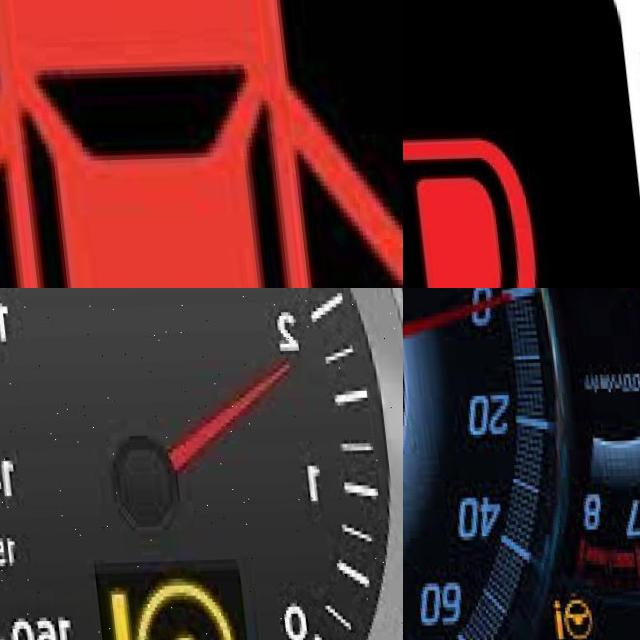Electronic Power Steering: (533, 596, 581, 640)
Electronic Power Steering Warning: (92, 581, 231, 640)
